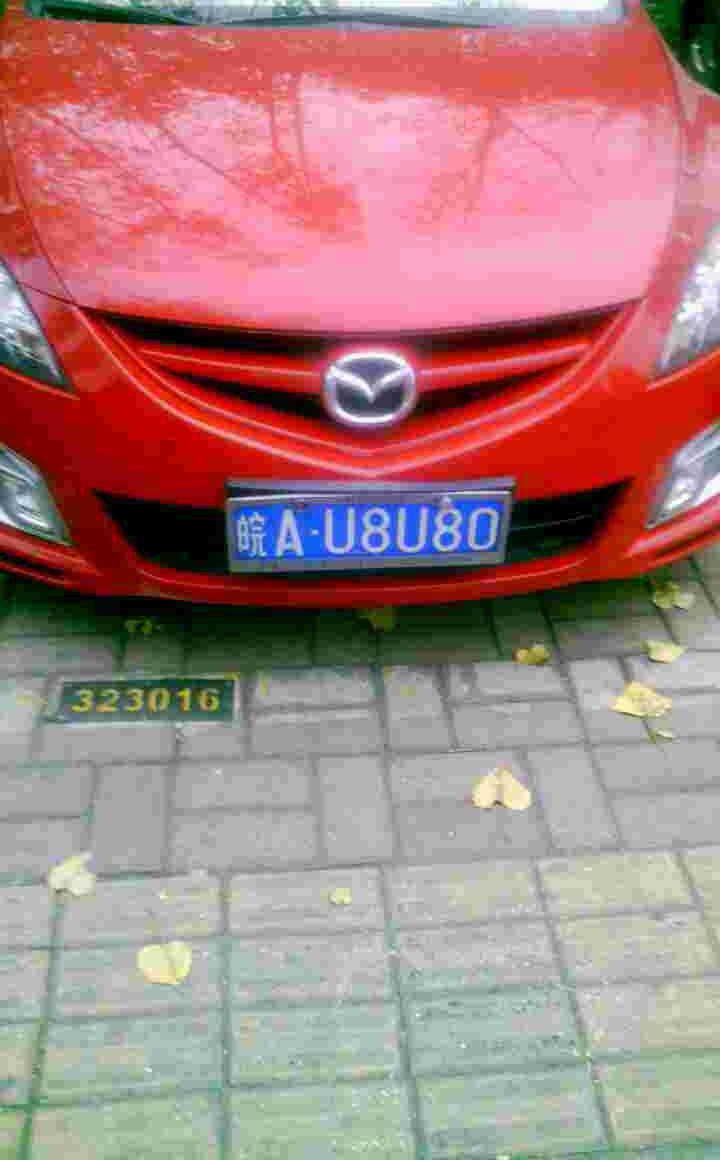license_plate: (246, 503, 514, 568)
